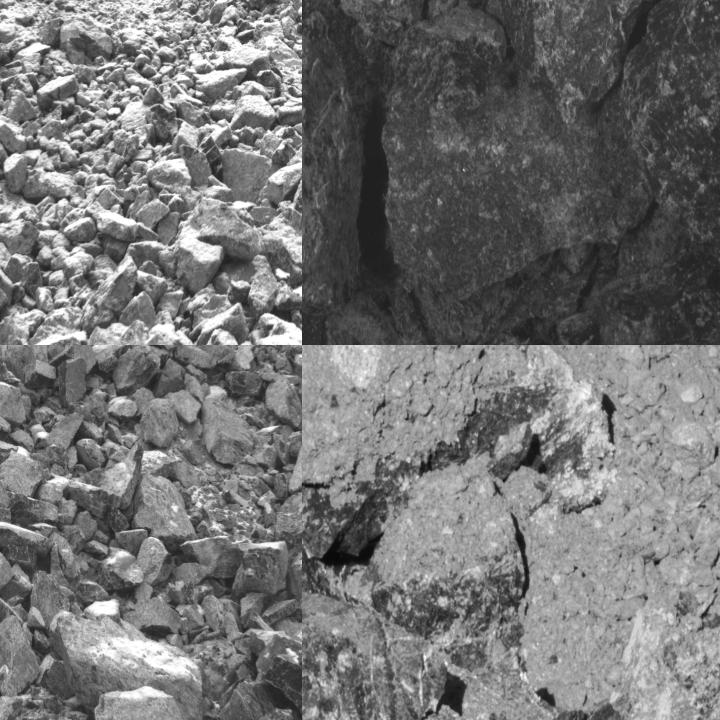stone: (381, 1, 648, 300), (601, 0, 719, 311), (375, 477, 528, 628), (302, 568, 449, 719), (302, 10, 368, 314), (485, 0, 654, 104), (51, 608, 203, 713), (555, 247, 719, 344), (624, 605, 719, 719), (131, 473, 198, 550), (180, 202, 262, 257), (80, 439, 144, 509), (82, 256, 137, 334), (253, 631, 301, 719), (201, 395, 254, 463), (230, 541, 290, 599), (93, 685, 195, 719), (0, 613, 40, 699), (176, 232, 225, 292), (261, 207, 301, 276), (113, 346, 168, 394), (86, 203, 158, 239), (217, 683, 289, 719), (178, 534, 236, 578), (223, 150, 272, 202), (60, 13, 114, 60), (32, 573, 70, 634), (57, 320, 149, 344), (139, 396, 180, 448), (260, 157, 301, 206), (63, 481, 113, 519), (273, 493, 301, 560), (266, 378, 301, 431), (7, 491, 57, 528), (142, 85, 176, 139), (194, 68, 247, 102), (138, 536, 174, 586), (247, 313, 301, 344), (146, 157, 192, 193), (228, 94, 276, 128), (223, 45, 269, 80), (118, 290, 157, 329), (36, 74, 79, 109), (0, 222, 41, 257), (58, 357, 86, 407), (0, 313, 35, 344), (0, 116, 28, 154), (7, 90, 38, 123), (137, 200, 171, 230), (2, 544, 38, 572), (0, 345, 47, 366), (23, 360, 56, 389), (140, 345, 213, 358), (5, 153, 28, 194), (226, 370, 263, 395), (200, 136, 223, 176), (63, 216, 96, 241), (146, 322, 181, 344), (275, 282, 301, 311), (277, 96, 301, 127), (287, 442, 301, 495), (114, 130, 139, 159), (22, 262, 42, 298), (32, 332, 87, 344), (0, 355, 22, 385), (105, 507, 130, 533), (203, 328, 239, 344), (36, 287, 55, 313), (246, 0, 268, 9)
